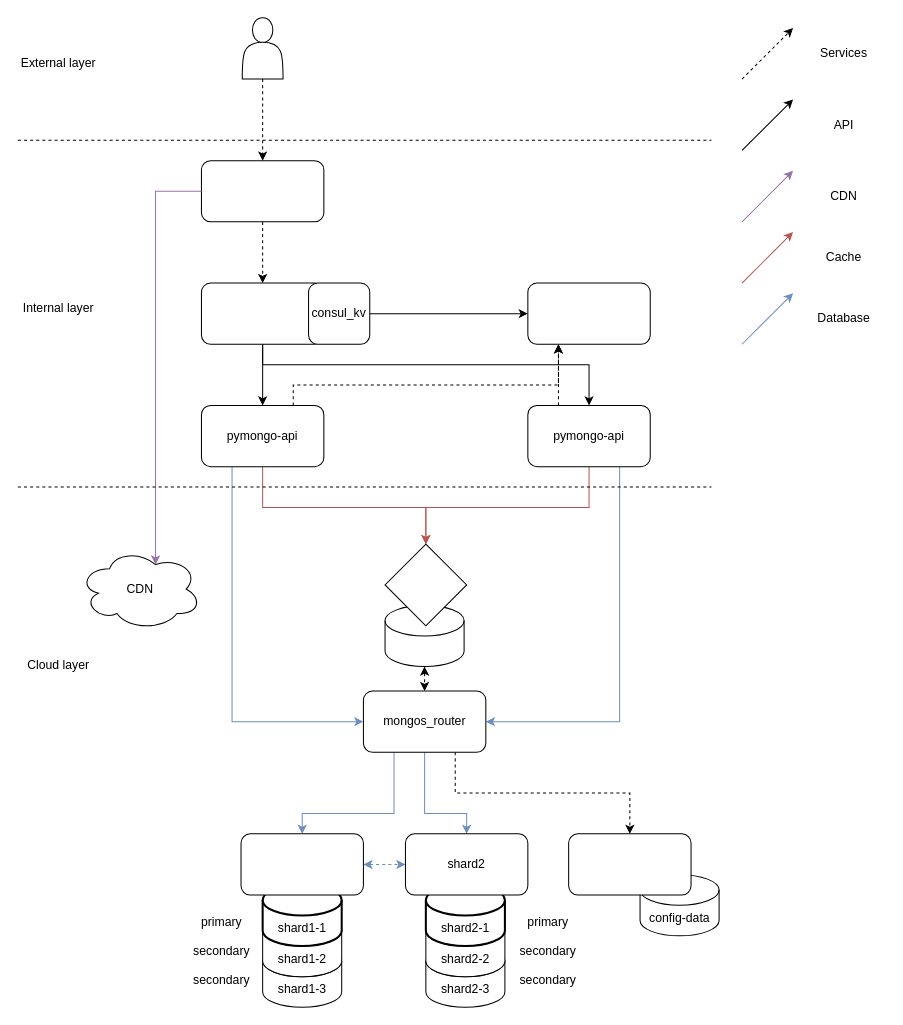
Image size: 903x1025. Some labels were removed from this diagram. Here are the shapes that lost their labels. From the top down, the centre of each, then its label:
[262,191]: Frontend
[262,313]: API Gateway
[588,313]: Consul
[425,584]: redis
[424,635]: redis_data
[301,864]: shard1
[629,864]: configSrv
